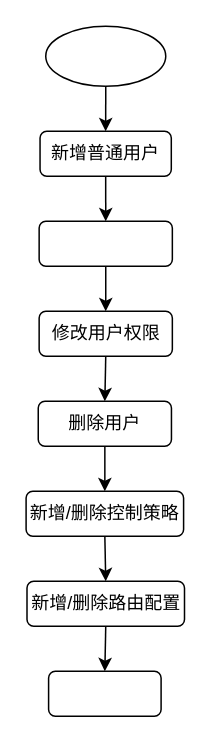
Image size: 212x743. Some labels were removed from this diagram. The centre of each missing label's shape, as x and y in pixels:
修改用户密码: [105,243]
查看日志: [104,693]
登录: [105,55]
